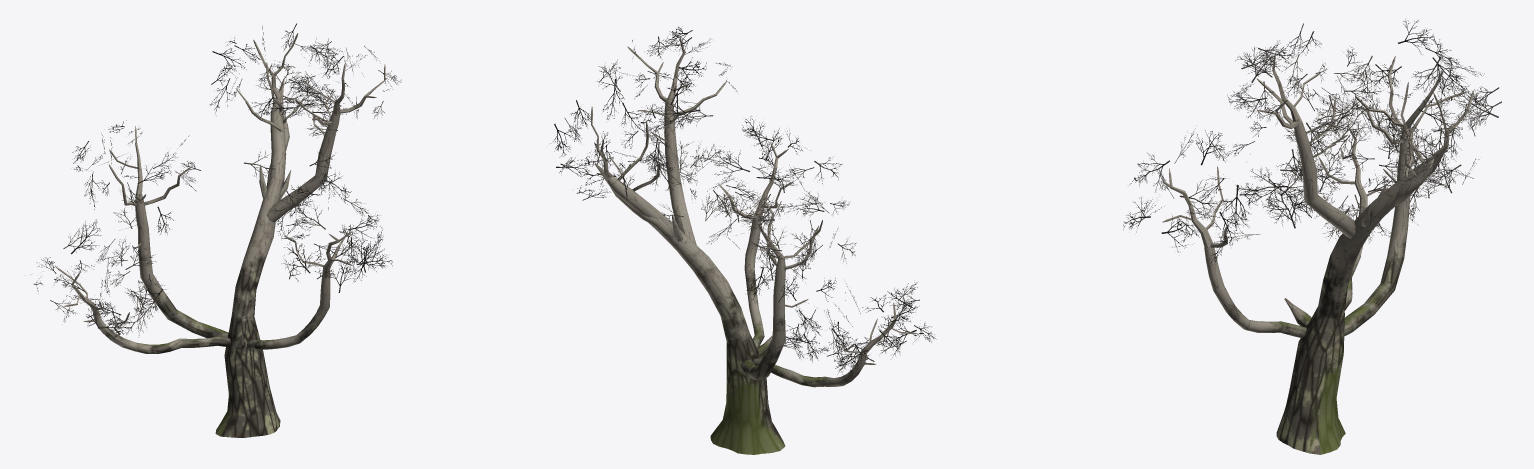
Rendered from dead_tree.glb.
3 renders of one model, left to right at view 1: azimuth 30°, elevation 25°; view 2: azimuth 150°, elevation 25°; view 3: azimuth 270°, elevation 25°, orthographic. The views are drawn at different scales.
Visible parts, largest first — view 1: dead_tree_LOD0, dead_tree_cards_LOD0; view 2: dead_tree_LOD0, dead_tree_cards_LOD0; view 3: dead_tree_LOD0, dead_tree_cards_LOD0.
Boxes of the visible parts, bbox=[...] form: dead_tree_LOD0: bbox=[56, 33, 385, 437]; dead_tree_cards_LOD0: bbox=[30, 23, 401, 337]; dead_tree_LOD0: bbox=[591, 37, 917, 454]; dead_tree_cards_LOD0: bbox=[550, 26, 936, 374]; dead_tree_LOD0: bbox=[1162, 54, 1473, 454]; dead_tree_cards_LOD0: bbox=[1123, 19, 1501, 268].
Size of what is drawn, in the model's own units: 17.37 by 14.87 by 12.38.
2 materials, 2 textured.
